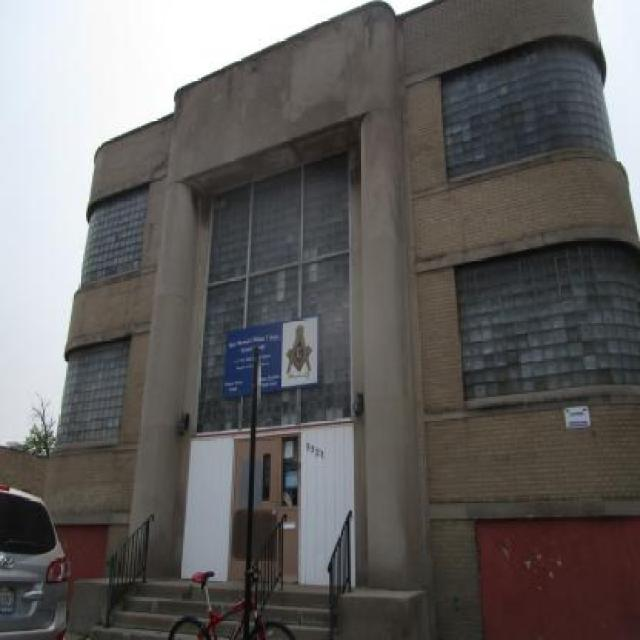stair: (89, 580, 345, 640)
